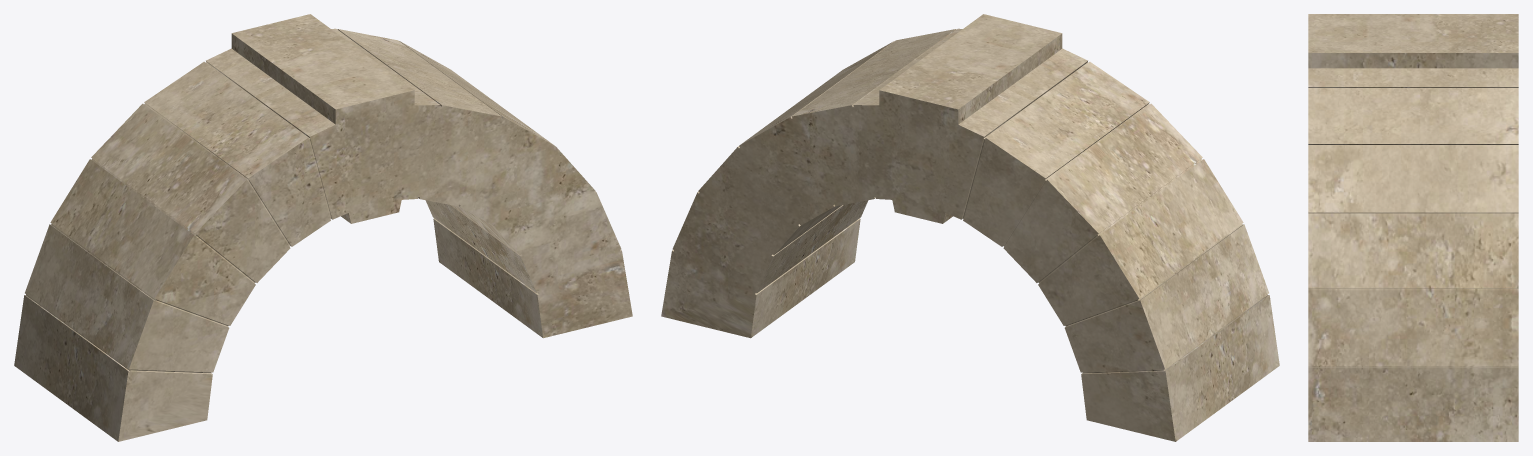
Rendered from roof.FBX.
The picture shows the model from 3 angles, left to right: view 1: azimuth 30°, elevation 25°; view 2: azimuth 150°, elevation 25°; view 3: azimuth 270°, elevation 25°; orthographic projection.
Visible parts, largest first — view 1: Torus002; view 2: Torus002; view 3: Torus002.
Boxes of the visible parts, left/top/right/bottom form: Torus002: left=14, top=14, right=632, bottom=441; Torus002: left=661, top=14, right=1279, bottom=441; Torus002: left=1308, top=14, right=1518, bottom=441.
Bounding box in the file's own units: 427 × 222 × 150.
